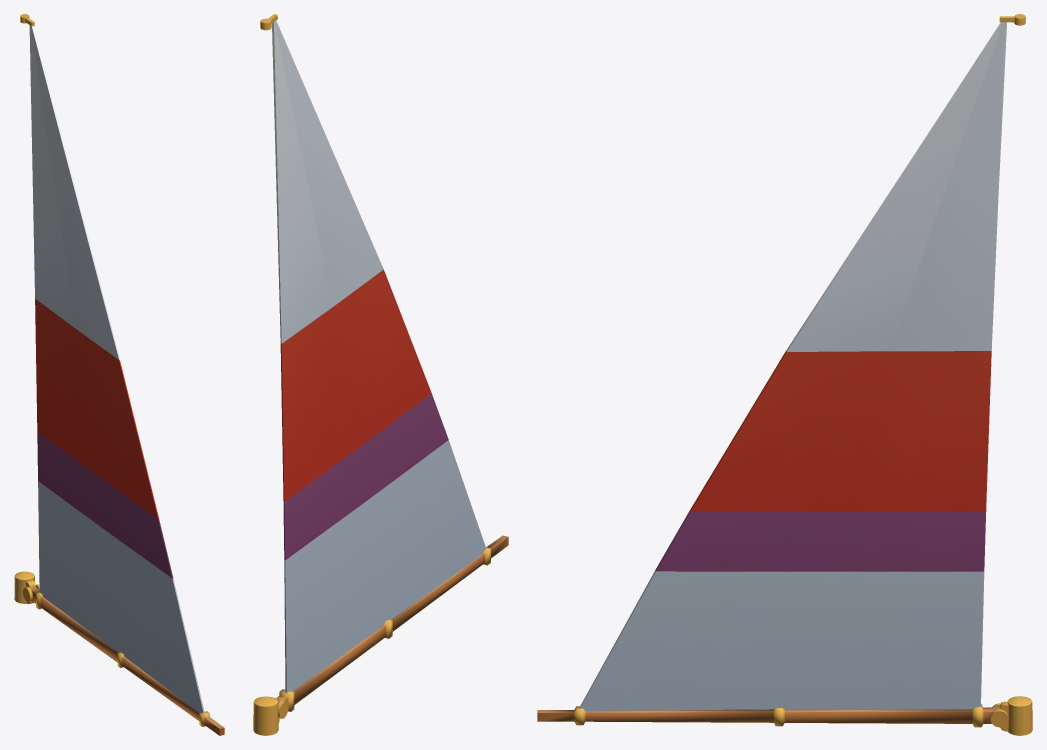
The model's file is Sail.fbx.
The picture shows the model from 3 angles, left to right: view 1: azimuth 30°, elevation 25°; view 2: azimuth 150°, elevation 25°; view 3: azimuth 270°, elevation 25°; orthographic projection. The views are drawn at different scales.
Visible parts, largest first — view 1: Sail; view 2: Sail; view 3: Sail.
Boxes of the visible parts, x1,y1,x2,y2 form: Sail: (14, 14, 224, 735); Sail: (253, 14, 508, 735); Sail: (537, 14, 1032, 735).
Size of the model in its own units: 17.87 by 559 by 348.
